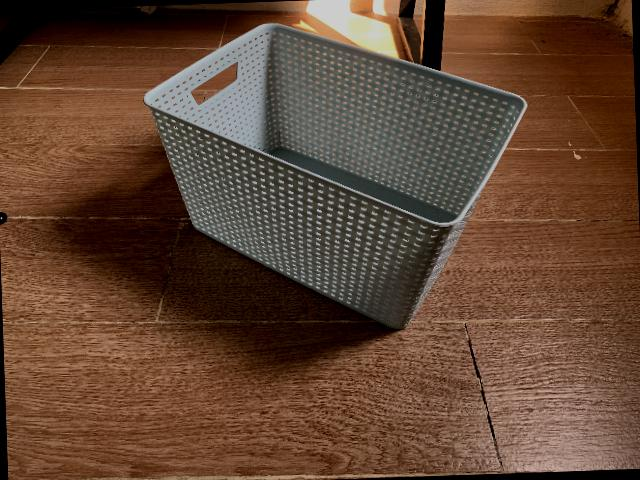cart: (142, 23, 527, 330)
